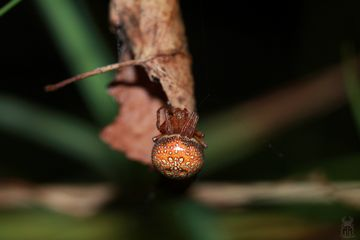spider: (148, 98, 208, 188)
